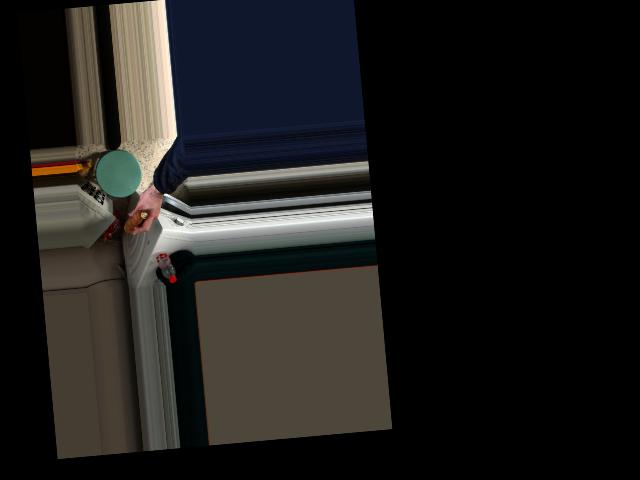sweet_potato: (123, 206, 152, 236)
